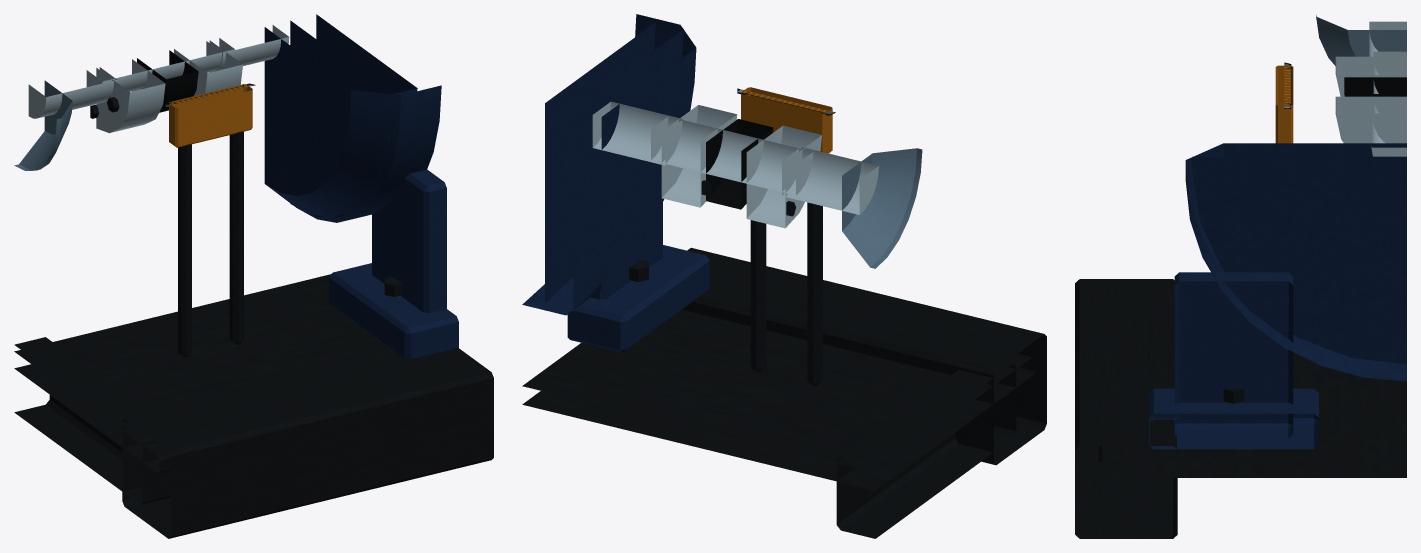
File: cell_9.obj
3 renders of one model, left to right at view 1: azimuth 30°, elevation 25°; view 2: azimuth 150°, elevation 25°; view 3: azimuth 270°, elevation 25°, orthographic. The views are drawn at different scales.
Parts seen in each view (by area): view 1: cell_9; view 2: cell_9; view 3: cell_9.
Boxes of the visible parts, x1=… form: cell_9: x1=14, y1=14, x2=493, y2=538; cell_9: x1=522, y1=14, x2=1046, y2=538; cell_9: x1=1075, y1=15, x2=1406, y2=538.
Bounding box in the file's own units: 1 × 1 × 0.84.
